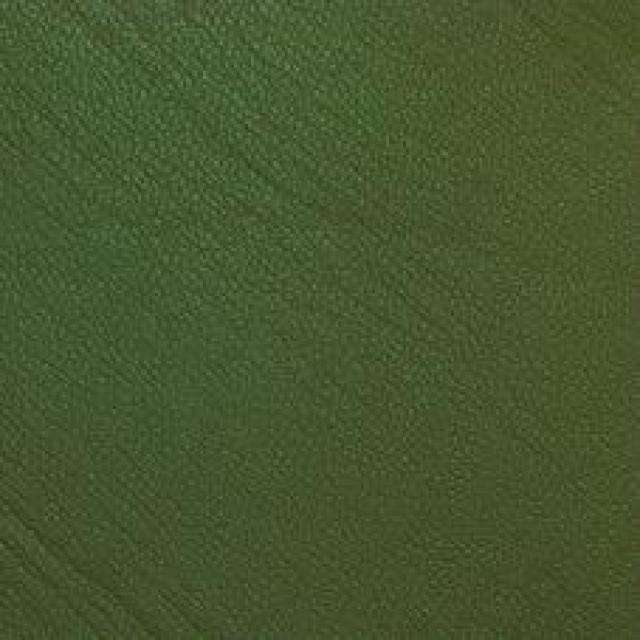Growth Marks: (120, 22, 352, 238), (13, 492, 171, 618)
